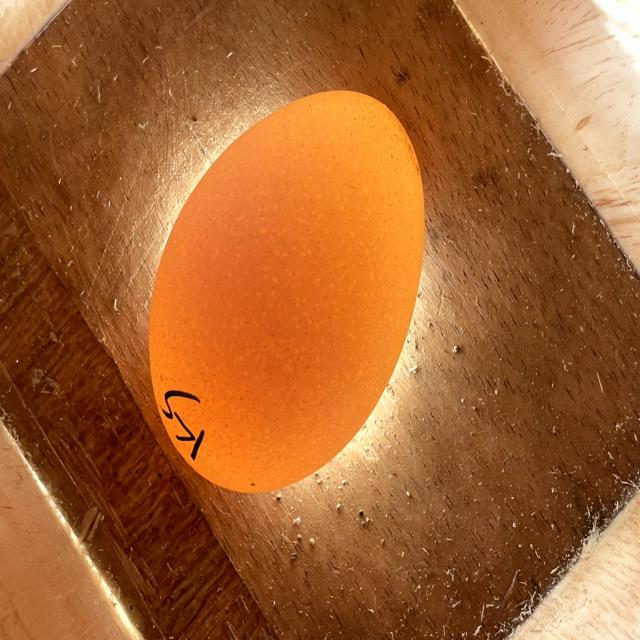infertile: (149, 92, 424, 492)
